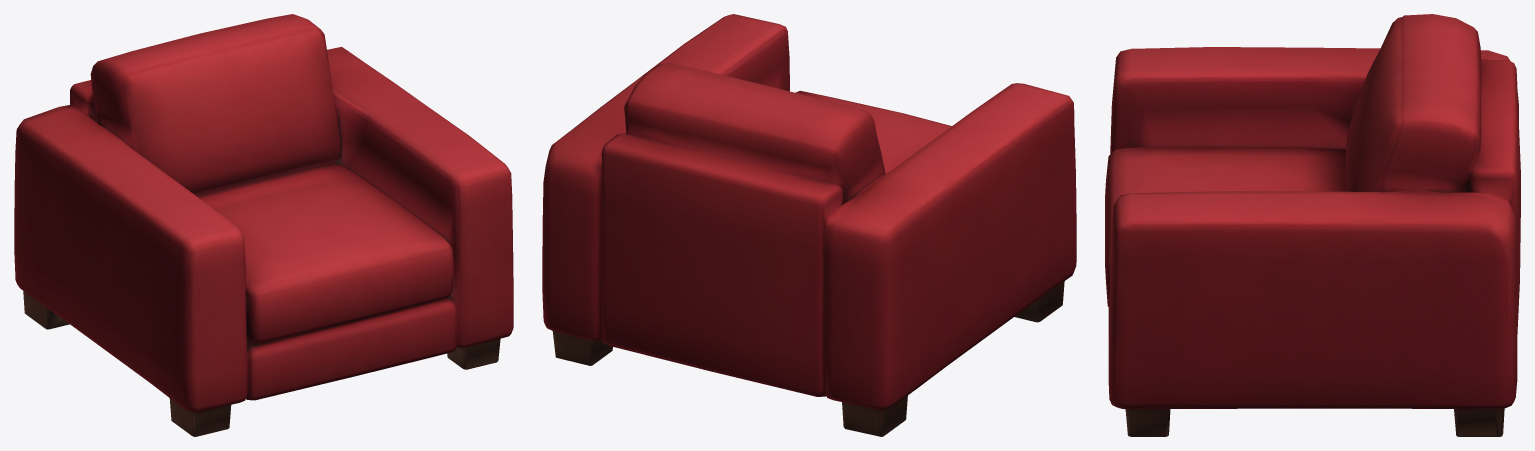
File: armchair.glb
3 views of the same model, side by side, from view 1: azimuth 30°, elevation 25°; view 2: azimuth 150°, elevation 25°; view 3: azimuth 270°, elevation 25° (orthographic). The views are drawn at different scales.
Parts seen in each view (by area): view 1: tripo_node_80b712f4-4f20-4285-9e74-b20c34d5d993; view 2: tripo_node_80b712f4-4f20-4285-9e74-b20c34d5d993; view 3: tripo_node_80b712f4-4f20-4285-9e74-b20c34d5d993.
Part boxes in pixels (left/top/right/bottom): tripo_node_80b712f4-4f20-4285-9e74-b20c34d5d993: left=14, top=14, right=513, bottom=436; tripo_node_80b712f4-4f20-4285-9e74-b20c34d5d993: left=542, top=14, right=1076, bottom=436; tripo_node_80b712f4-4f20-4285-9e74-b20c34d5d993: left=1105, top=14, right=1520, bottom=436.
Bounding box in the file's own units: 0.998 × 0.748 × 0.9668.
Materials: 1 (1 with a texture image).
